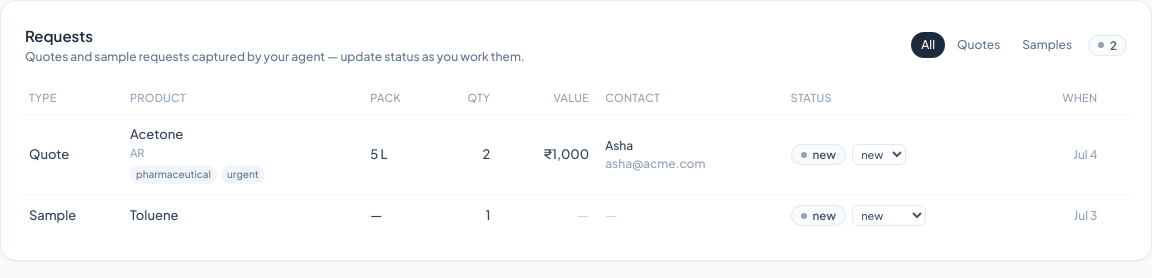
it: RequestsInboxPanel (Phase 3.2 merged inbox) › filters to samples when the Samples chip is clicked
Click the button "Samples" at (1047, 45), box x1=1012 y1=32 x2=1082 y2=58
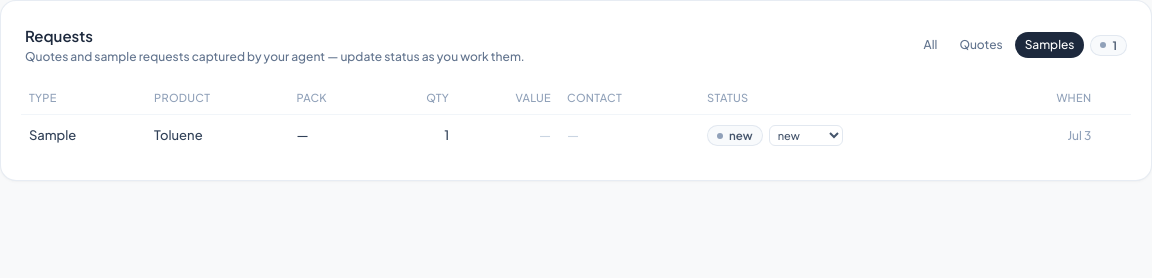
Check: the text "Toluene" is shown, box x1=154 y1=127 x2=203 y2=143
Check: the text "Acetone" is gone
